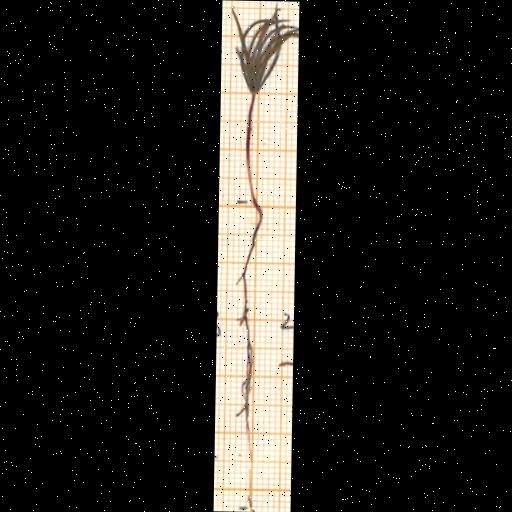flowerPinus: (231, 5, 297, 94)
rootPinus: (234, 205, 262, 464), (241, 303, 253, 457)
stemPinus: (246, 95, 255, 205)
